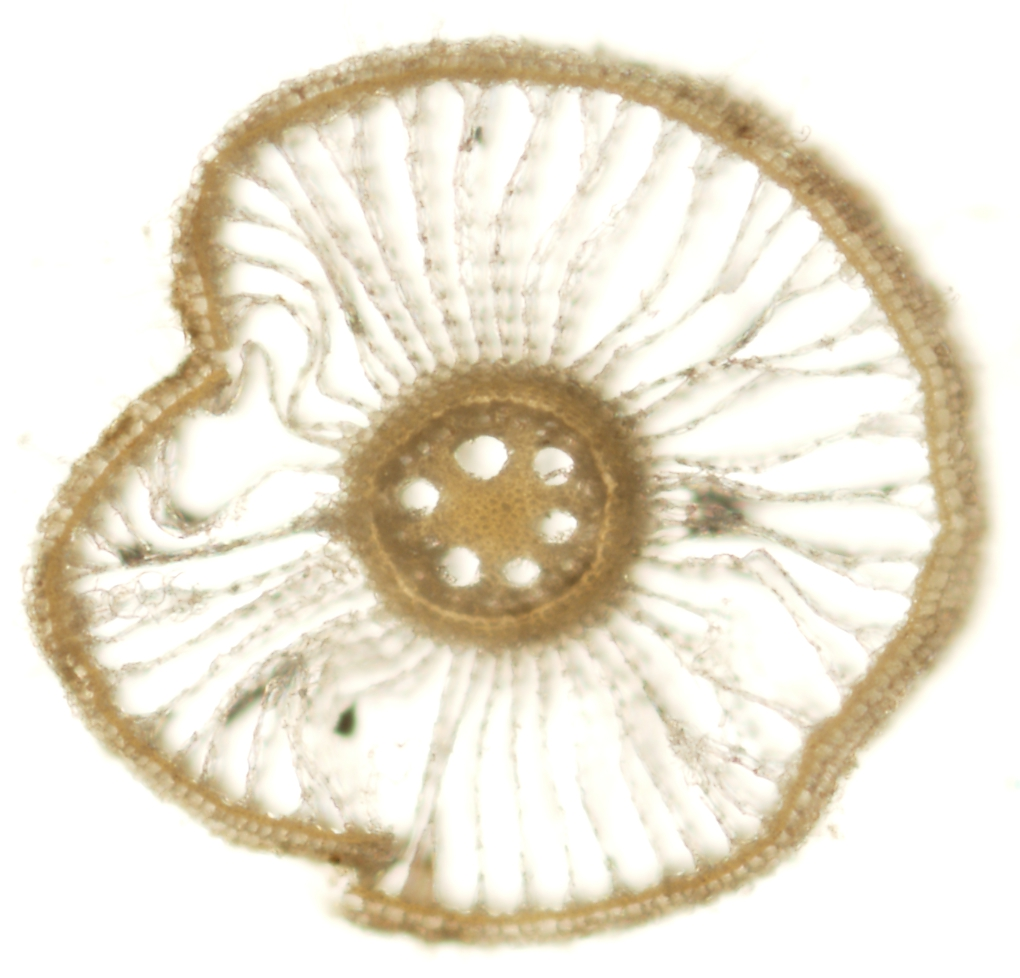lm: (453, 435, 508, 478), (437, 545, 479, 587), (533, 446, 574, 486), (397, 478, 439, 515), (538, 507, 578, 544), (502, 557, 541, 587)
